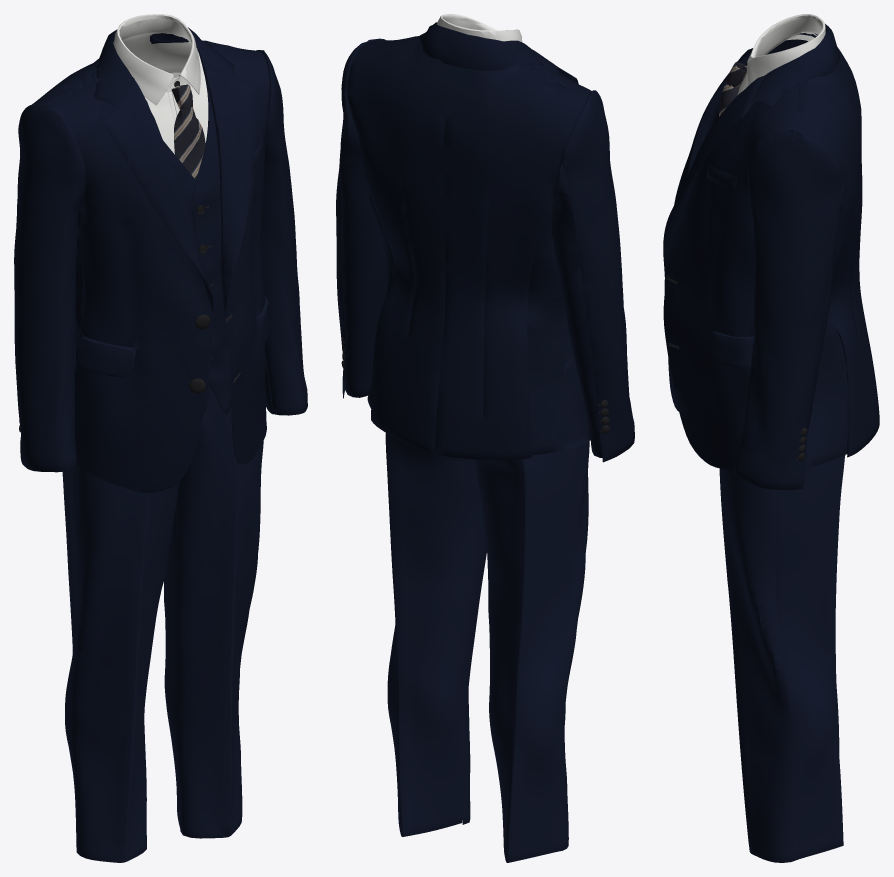
The model's file is notch.glb.
The picture shows the model from 3 angles, left to right: view 1: azimuth 30°, elevation 25°; view 2: azimuth 150°, elevation 25°; view 3: azimuth 270°, elevation 25°; orthographic projection. The views are drawn at different scales.
Visible parts, largest first — view 1: Jacket, Trousers, Shirt, Waistcoat, Tie, Trim; view 2: Jacket, Trousers, Shirt, Waistcoat; view 3: Jacket, Trousers, Shirt, Tie.
Part boxes in pixels (x1,y1,x2,y2): Jacket: [14, 27, 307, 492]; Trousers: [62, 383, 263, 862]; Shirt: [113, 14, 208, 154]; Waistcoat: [75, 58, 231, 413]; Tie: [172, 84, 205, 179]; Trim: [19, 81, 210, 432]; Jacket: [336, 22, 634, 462]; Trousers: [385, 339, 589, 862]; Shirt: [437, 14, 522, 41]; Waistcoat: [414, 41, 521, 81]; Jacket: [663, 24, 879, 489]; Trousers: [719, 455, 845, 862]; Shirt: [737, 14, 825, 95]; Tie: [719, 62, 746, 116].
Bounding box in the file's own units: 0.539 × 1.5 × 0.3678.
Materials: 8 (4 with a texture image).
